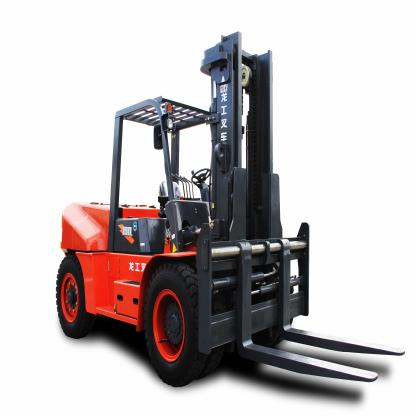forklift: (54, 30, 406, 388)
